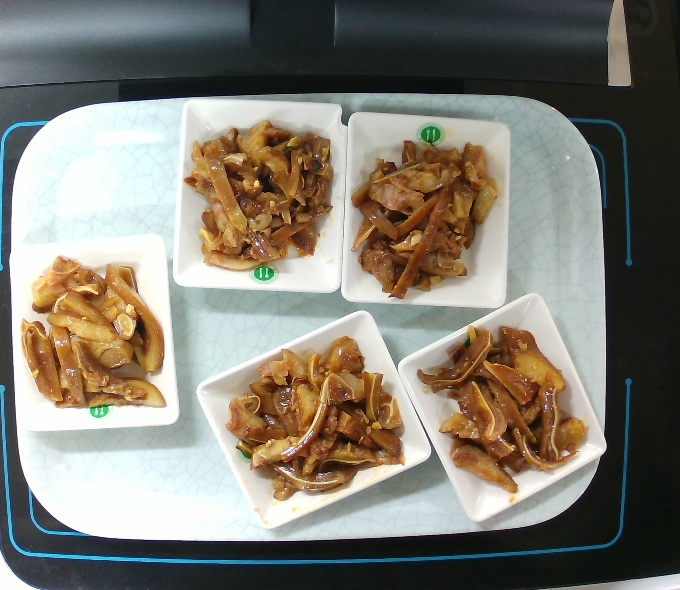wcq-ZhuErDuo: (219, 325, 415, 503), (418, 311, 589, 497), (14, 247, 176, 421), (350, 126, 499, 305), (182, 111, 335, 275)
